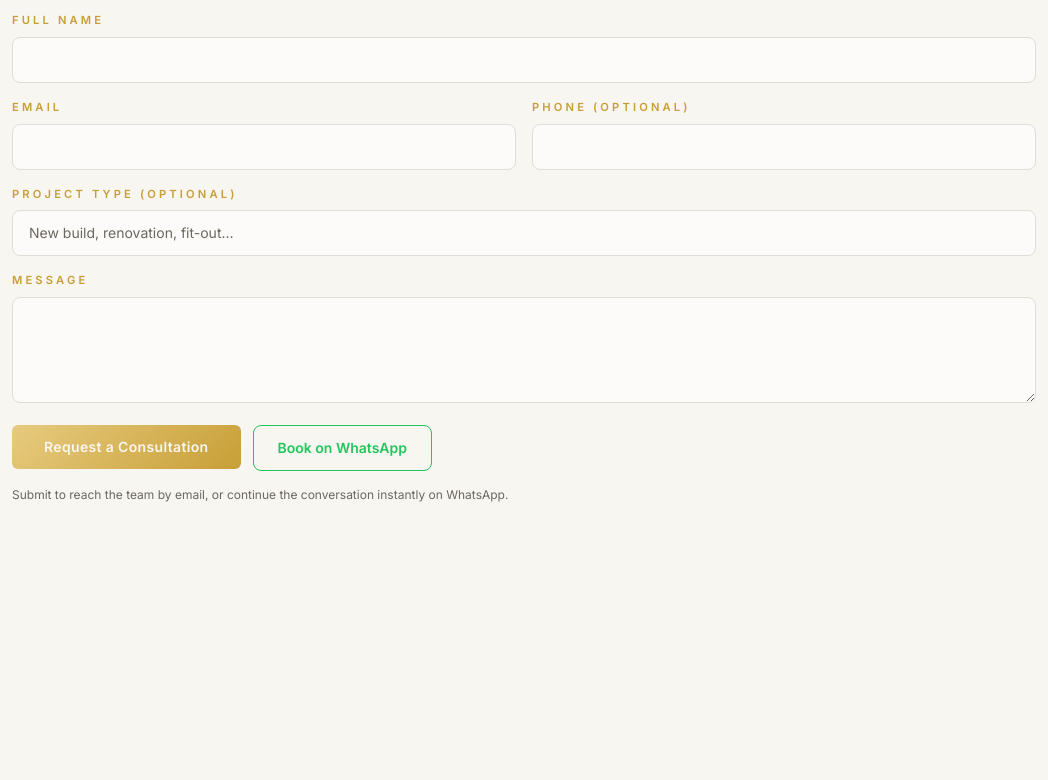
Scenario: BookingForm › shows a validation error when required fields are empty
The width and height of the screenshot is (1048, 780).
Click the button "Request a Consultation".
click(126, 447)  # box [12,425,240,469]
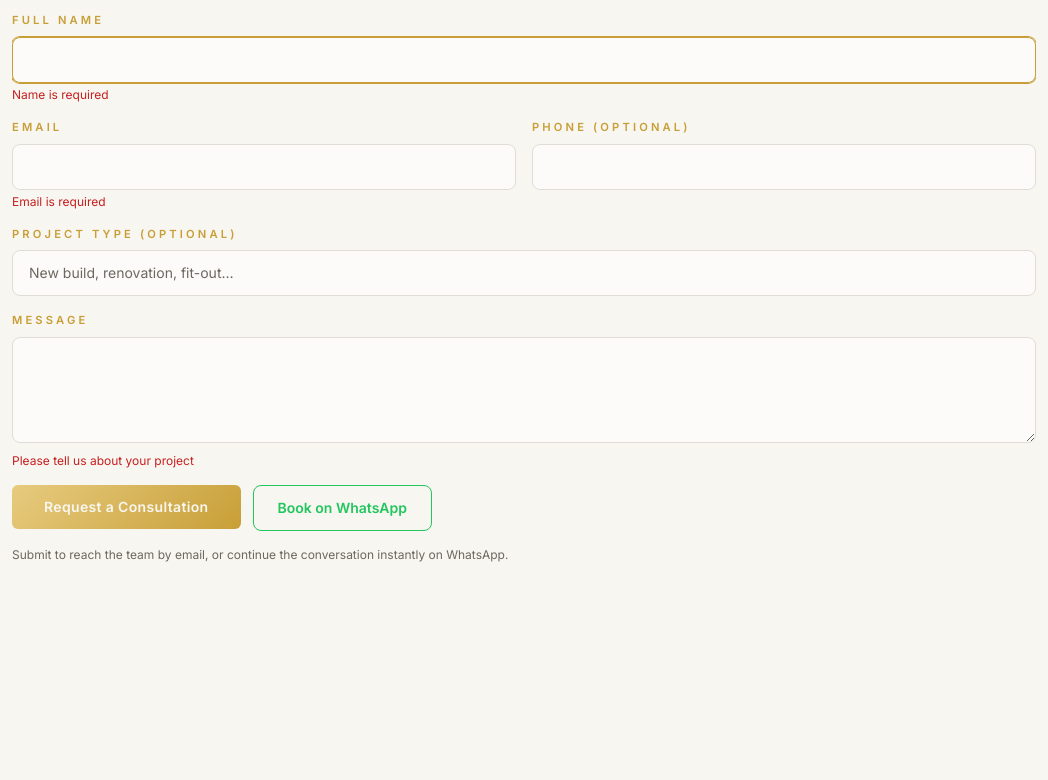
Expected: the text "Name is required" is shown, [12,87,109,102]
